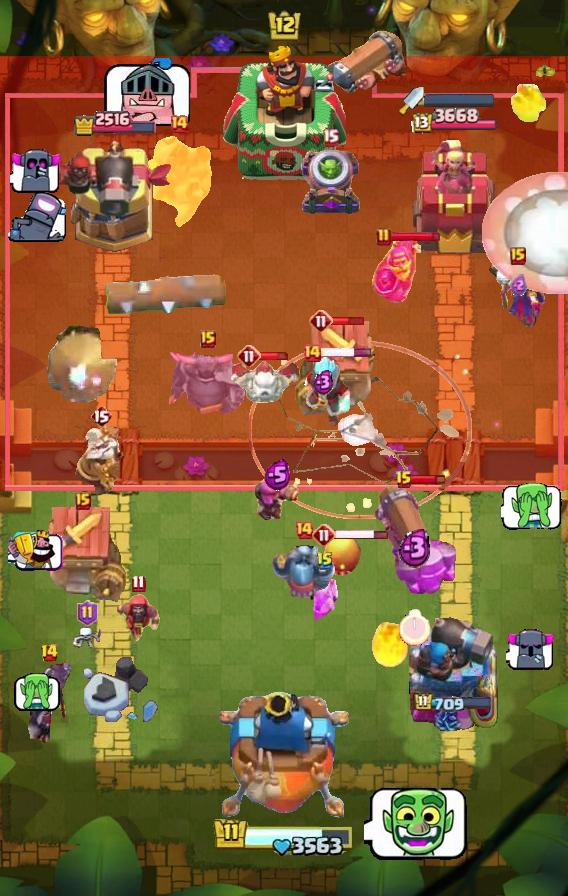axe: (488, 259, 548, 327)
bar: (409, 138, 497, 256)
battle-healer: (323, 28, 411, 100)
bowler: (112, 592, 164, 648)
cannoneer-tower: (143, 136, 215, 230)
clock: (212, 817, 356, 859)
electro-spirit: (398, 527, 432, 568), (265, 459, 292, 491), (314, 369, 335, 395), (509, 274, 527, 296)
elixir: (399, 609, 431, 647)
elixir-collector: (73, 424, 129, 498)
elixir-golem-small: (271, 534, 337, 602)
emote: (335, 527, 390, 540), (390, 230, 441, 243), (320, 346, 373, 357), (410, 473, 446, 486), (330, 315, 366, 327), (259, 351, 291, 361)
firecracker-evolution: (370, 233, 422, 302)
furnace: (370, 484, 460, 598)
goblin-cage: (298, 147, 362, 217)
golemite: (166, 348, 250, 420)
guard: (248, 341, 472, 520)
heal-spirit: (72, 626, 102, 648)
hog: (322, 533, 362, 577)
king-tower: (219, 692, 349, 826), (223, 43, 345, 181)
king-tower-bar: (424, 93, 496, 107)
mini-pekka: (228, 358, 302, 408)
minion: (102, 270, 228, 320)
mortar: (291, 355, 355, 427)
rascal-boy: (24, 663, 74, 747)
selected: (409, 108, 497, 136), (71, 109, 156, 137), (413, 692, 493, 714)
skeleton: (364, 784, 470, 864), (101, 58, 190, 126), (6, 192, 66, 244), (502, 481, 563, 531), (9, 147, 62, 193), (8, 528, 64, 571), (506, 628, 556, 672), (11, 672, 60, 711)
sparky: (295, 320, 381, 418), (40, 506, 126, 604)
text: (309, 309, 333, 333), (237, 344, 261, 368), (312, 523, 336, 547), (78, 600, 99, 626), (90, 404, 112, 428), (169, 114, 189, 134), (302, 343, 322, 363), (294, 520, 314, 540), (40, 643, 59, 663), (395, 470, 413, 490), (316, 551, 334, 571), (321, 129, 339, 147), (376, 227, 392, 247), (510, 247, 526, 265), (200, 330, 216, 348), (75, 492, 91, 510), (131, 575, 146, 594)
tombstone: (251, 470, 303, 524)
tower-bar: (53, 138, 175, 256), (407, 611, 499, 731)
valkyrie: (371, 614, 413, 670), (505, 84, 551, 126)
wall-breaker: (480, 172, 567, 294)
x-bow: (46, 323, 132, 405)
zap: (306, 576, 344, 622)
